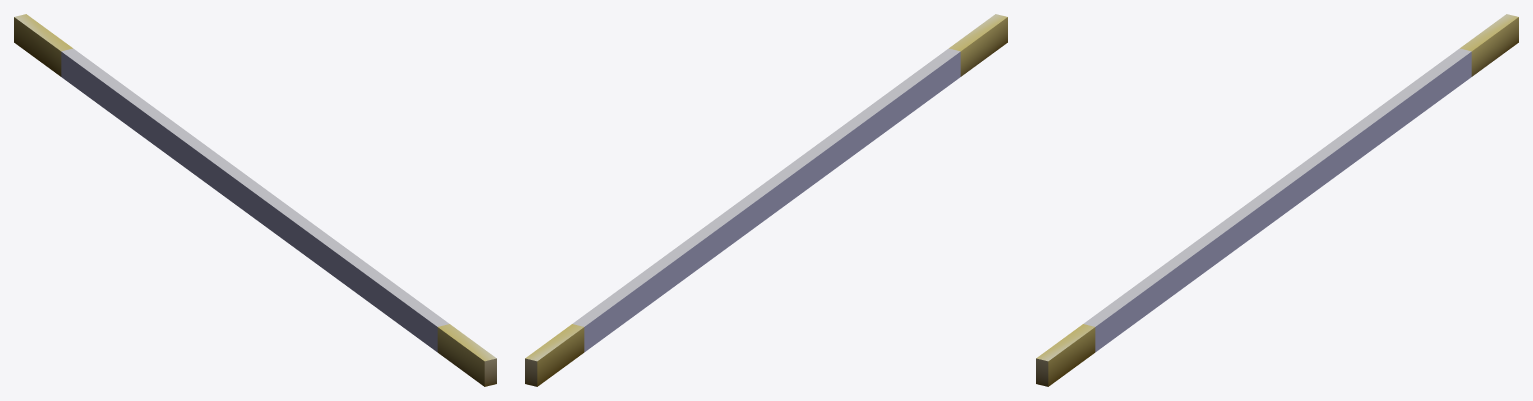
File: Grindrail01.gltf
The picture shows the model from 3 angles, left to right: view 1: azimuth 30°, elevation 25°; view 2: azimuth 150°, elevation 25°; view 3: azimuth 330°, elevation 25°; orthographic projection.
Parts seen in each view (by area): view 1: Grindrail01Mesh; view 2: Grindrail01Mesh; view 3: Grindrail01Mesh.
Boxes of the visible parts, box(x1,y1,x2,y2) form: Grindrail01Mesh: box(14, 14, 496, 386); Grindrail01Mesh: box(525, 14, 1007, 386); Grindrail01Mesh: box(1036, 14, 1518, 386).
Size of the model in its own units: 0.15 by 0.3 by 10.
